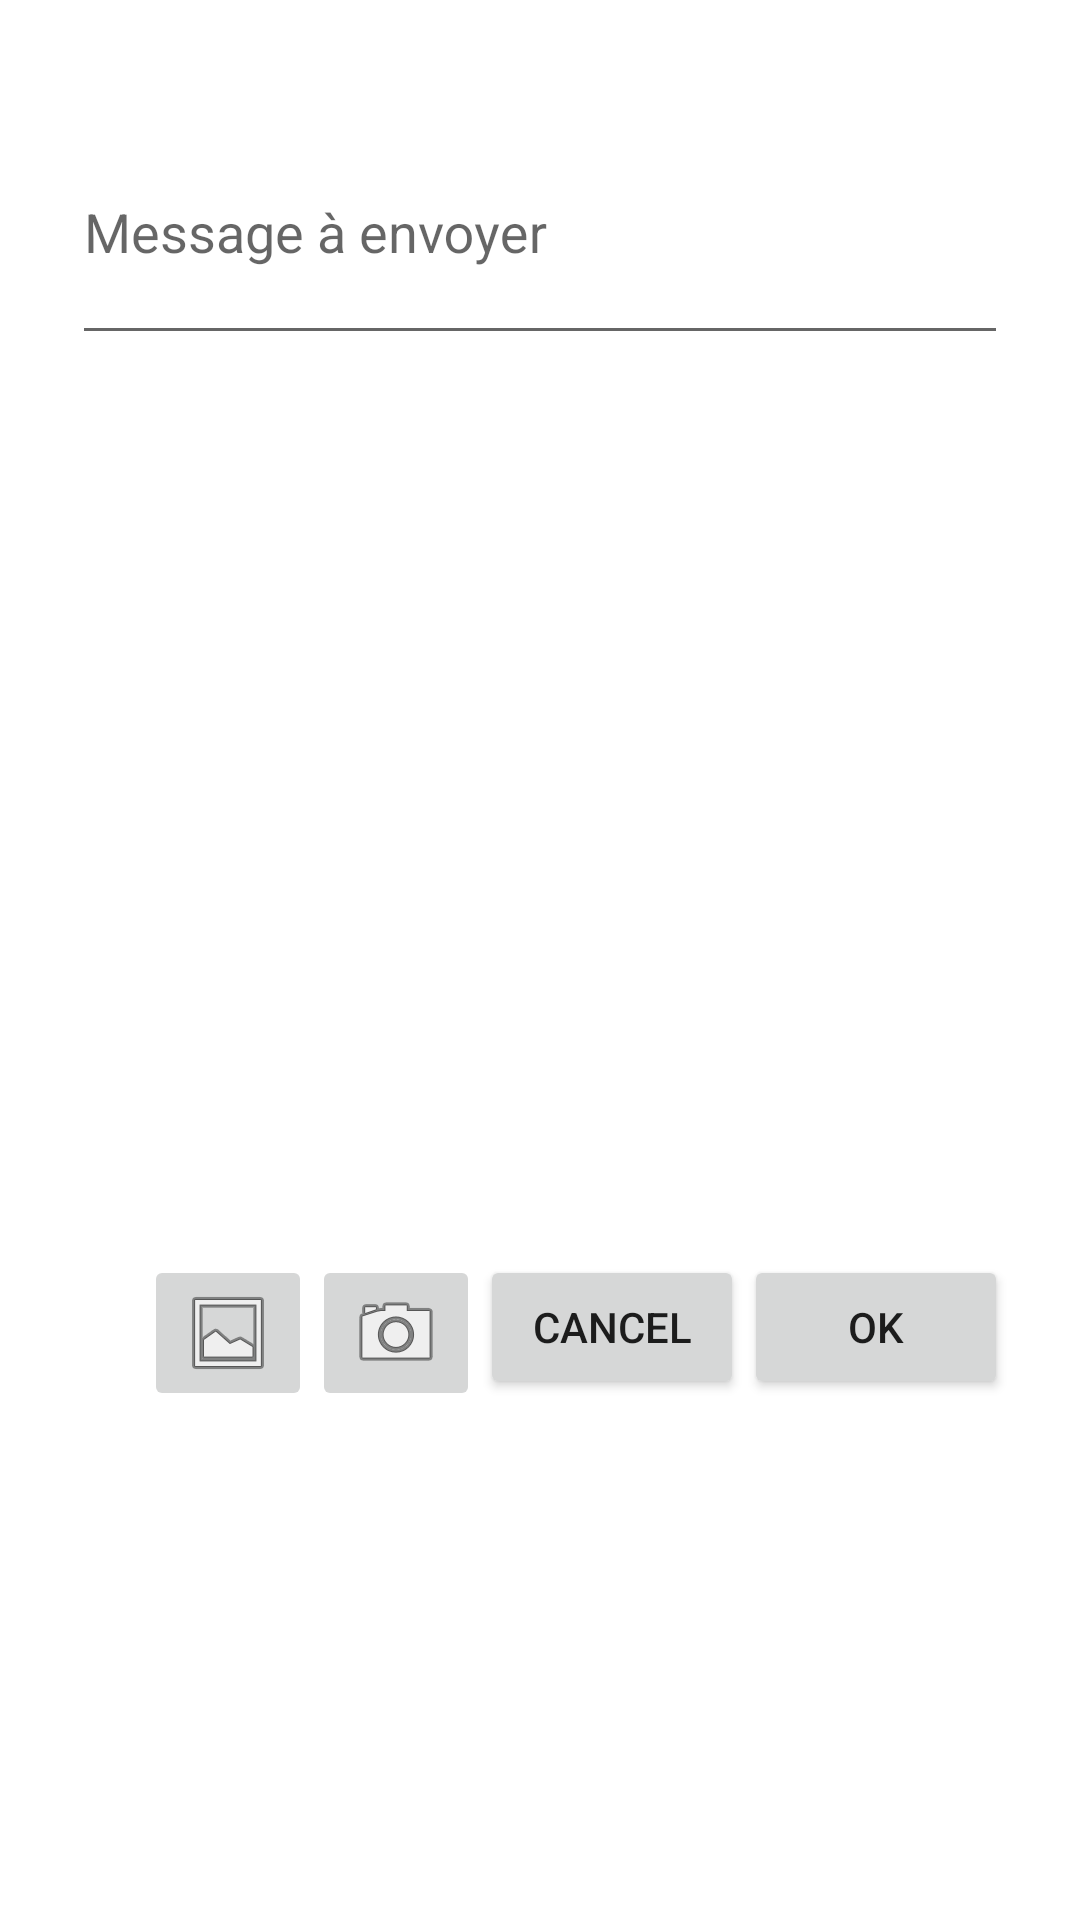

Icons on this 1080×1920 Android screen, each with its box as (x1, y1, x2, y2):
camera: (324, 1273, 468, 1393)
gallery: (156, 1273, 300, 1393)
